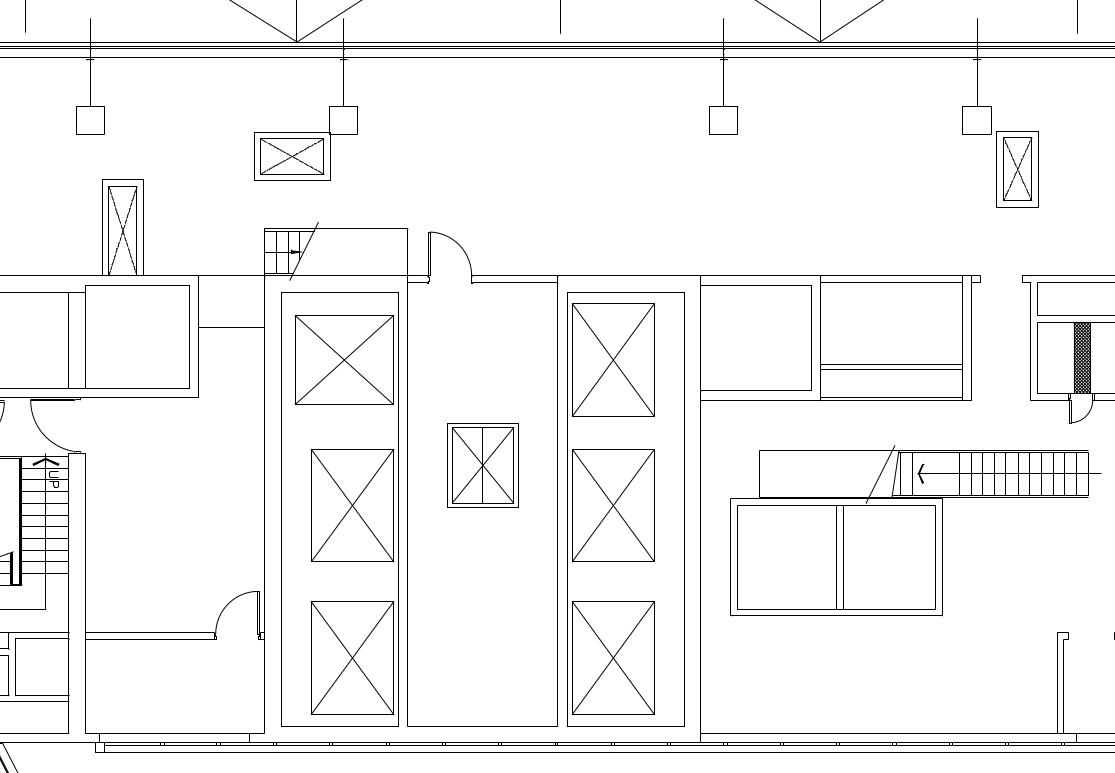door: (423, 225, 476, 287), (30, 395, 83, 457), (210, 580, 263, 642), (1060, 393, 1098, 432)
